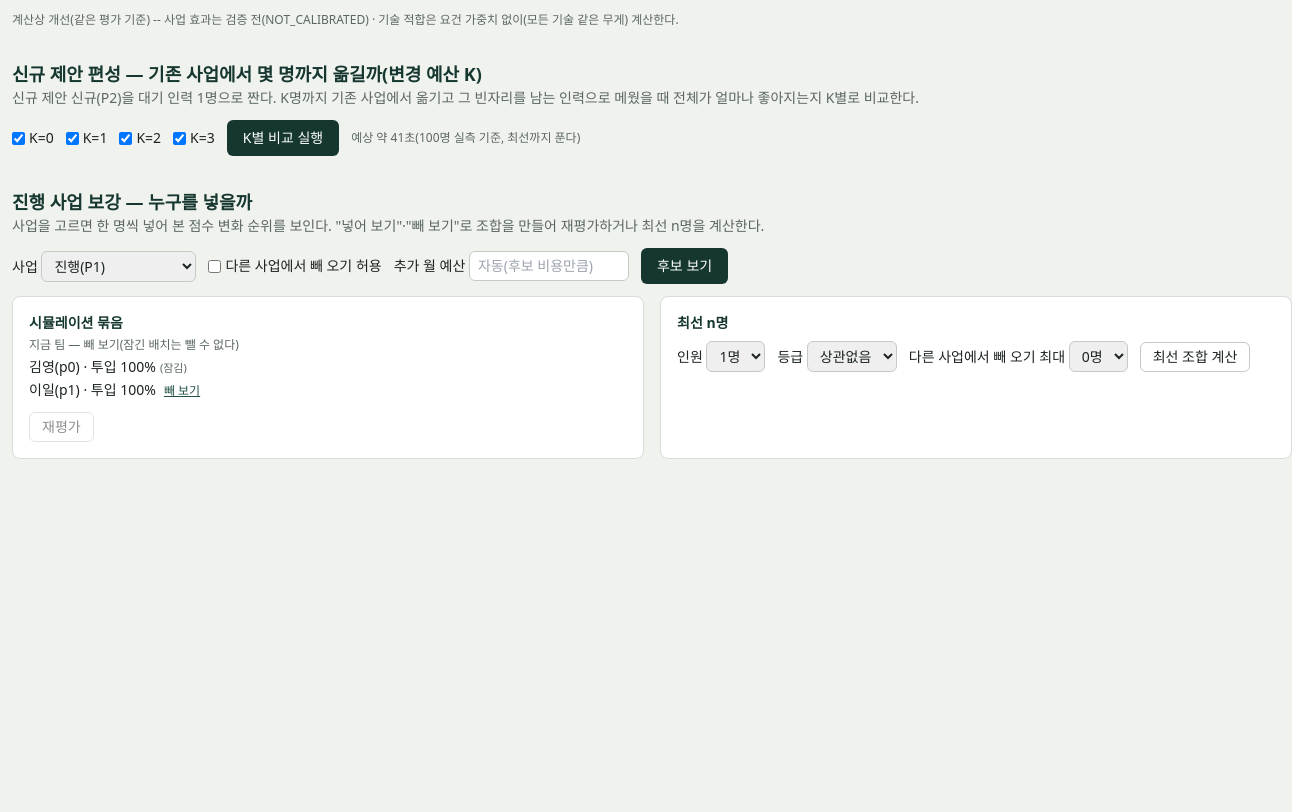
OperatingTab › K별 비교를 멈추면 받은 K까지 남기고 멈춤을 알린다(2026-10-12)
The width and height of the screenshot is (1292, 812).
Click the button "K별 비교 실행": [283, 138] box [227,120,339,156]
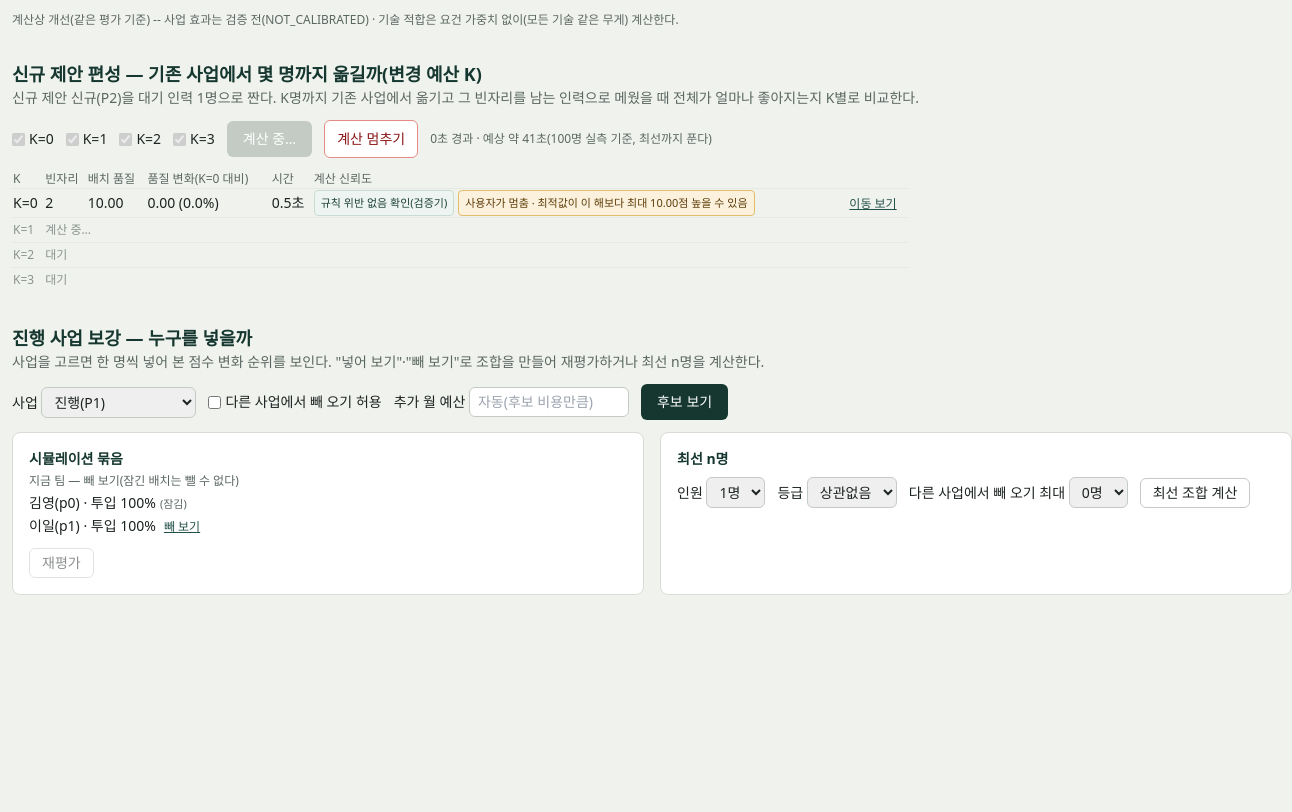
Click the button "계산 멈추기": [371, 139] box [324,120,418,158]
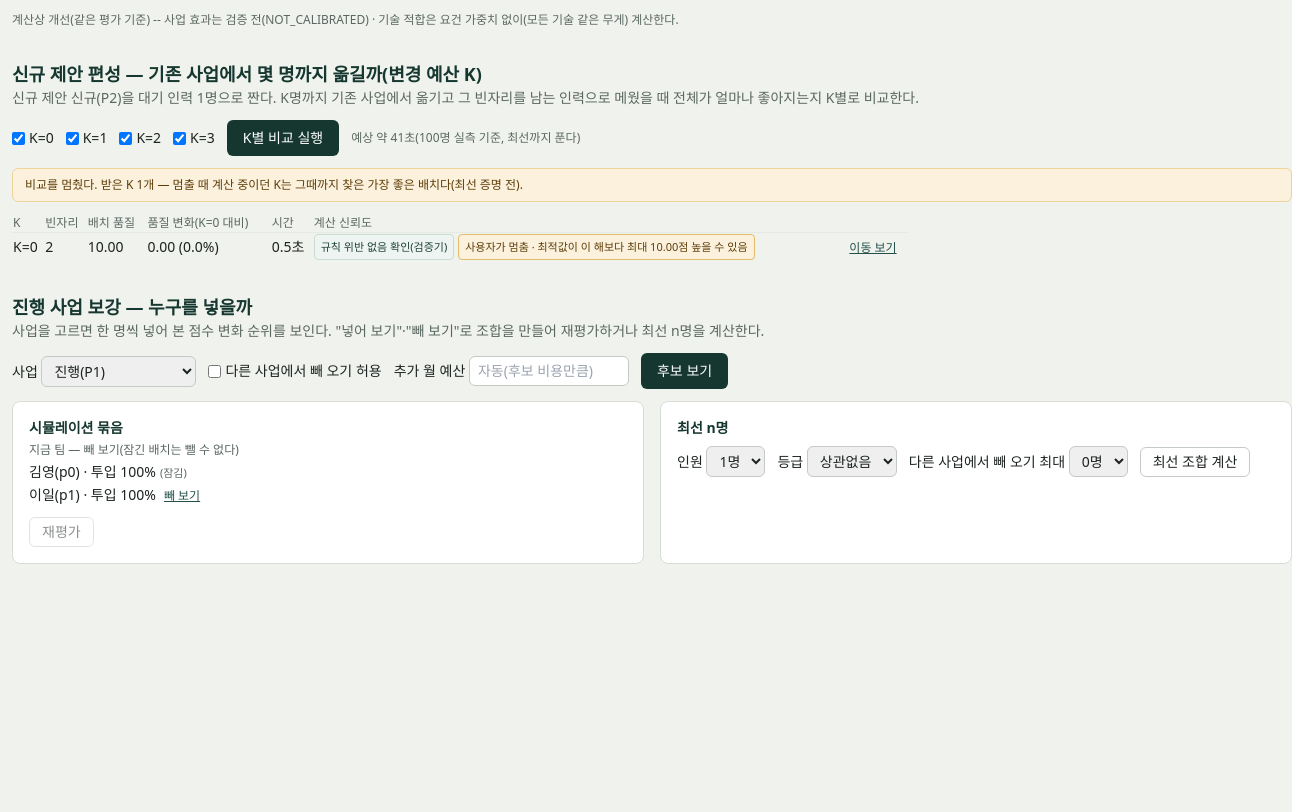
Result: the text "비교를 멈췄다. 받은 K 1개 — 멈출 때 계산 중이던 K는 그때까지 찾은 가장 좋은 배치다(최선 증명 전)." is shown at [12,168,1291,202]
Result: the button "계산 멈추기" is gone
